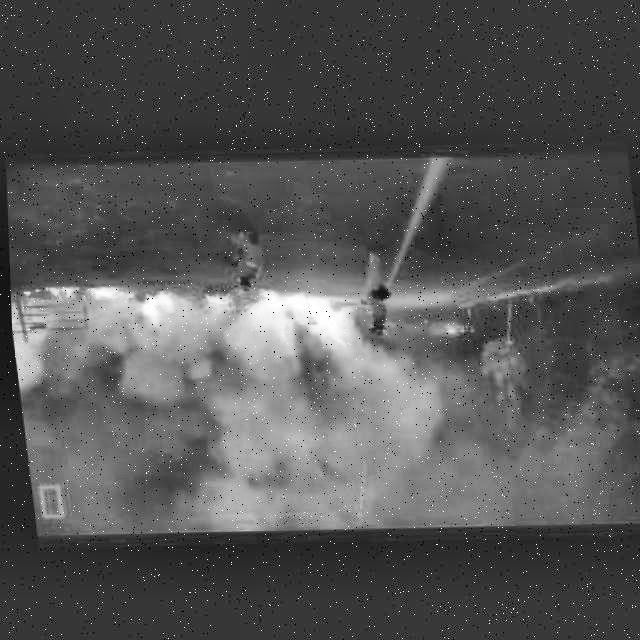Fire: (255, 279, 348, 349), (141, 288, 180, 325), (21, 285, 71, 300), (86, 282, 117, 301)
Smoke: (9, 294, 446, 571)
